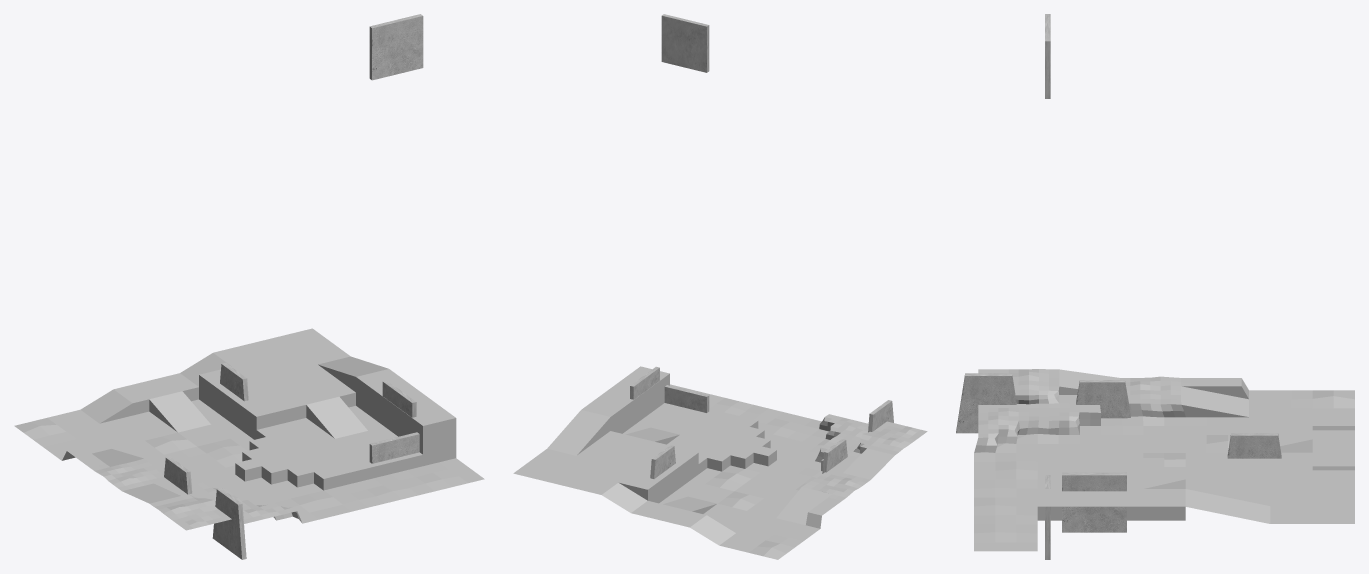
Rendered from maps 2.fbx.
The picture shows the model from 3 angles, left to right: view 1: azimuth 30°, elevation 25°; view 2: azimuth 150°, elevation 25°; view 3: azimuth 270°, elevation 25°; orthographic projection. The views are drawn at different scales.
Visible parts, largest first — view 1: Grid.001, Cube.008, Cube.017, Cube.014, Cube.018, Cube.016, Cube.015; view 2: Grid.001, Cube.008, Cube.014, Cube.018, Cube.016, Cube.017, Cube.015; view 3: Grid.001, Cube.015, Cube.017, Cube.016, Cube.018, Cube.008.
Part boxes in pixels (x1,y1,x2,y2): Grid.001: (14, 328, 484, 530); Cube.008: (369, 14, 423, 80); Cube.017: (212, 488, 246, 559); Cube.014: (369, 432, 419, 463); Cube.018: (220, 363, 248, 401); Cube.016: (164, 456, 192, 494); Cube.015: (382, 380, 416, 417); Grid.001: (513, 366, 927, 559); Cube.008: (661, 14, 709, 72); Cube.014: (664, 385, 709, 412); Cube.018: (650, 445, 675, 478); Cube.016: (822, 439, 847, 473); Cube.017: (868, 400, 893, 432); Cube.015: (630, 366, 659, 399); Grid.001: (974, 369, 1354, 551); Cube.015: (1062, 472, 1126, 532); Cube.017: (956, 373, 1016, 433); Cube.016: (1076, 380, 1130, 418); Cube.018: (1227, 433, 1281, 458); Cube.008: (1045, 14, 1050, 98).
Size of the model in its own units: 6389 by 9600 by 6691.
